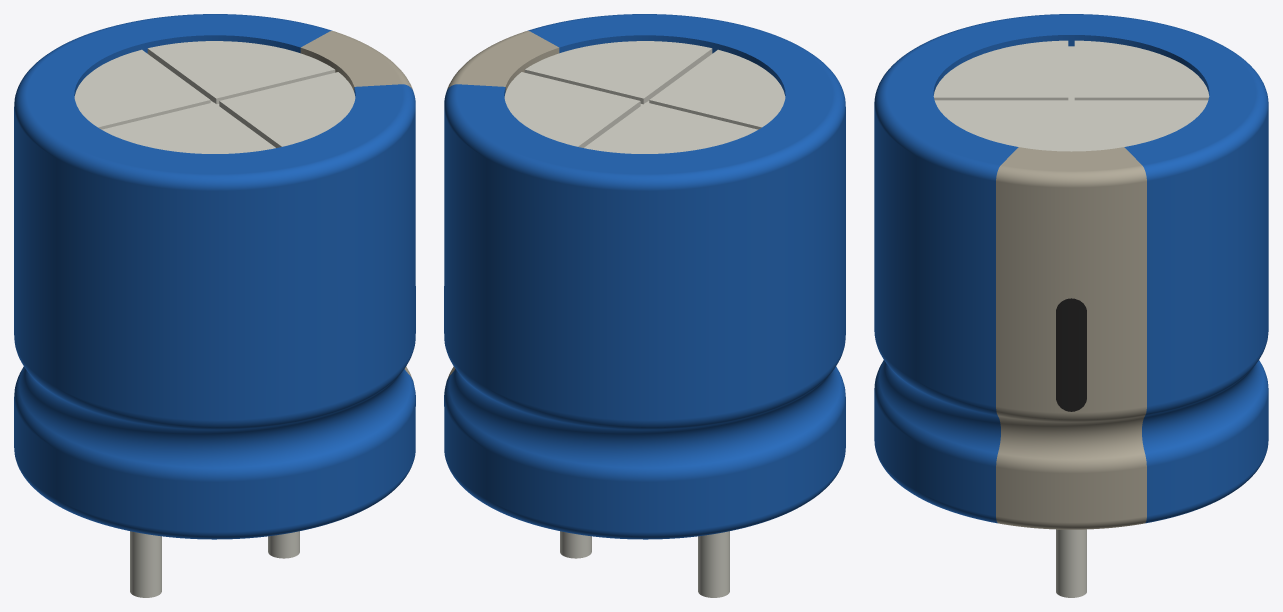
File: cp_radial_d6_3mm_p2_50mm.glb
3 views of the same model, side by side, from view 1: azimuth 30°, elevation 25°; view 2: azimuth 150°, elevation 25°; view 3: azimuth 270°, elevation 25° (orthographic).
Visible parts, largest first — view 1: cap_elec_d6, pin_1, pin_2; view 2: cap_elec_d6, pin_1, pin_2; view 3: cap_elec_d6, pin_2.
Part boxes in pixels (box(x1,y1,x2,y2)): cap_elec_d6: box(14, 14, 415, 539); pin_1: box(130, 531, 161, 597); pin_2: box(268, 531, 299, 558); cap_elec_d6: box(444, 14, 845, 539); pin_1: box(698, 531, 729, 597); pin_2: box(560, 531, 591, 558); cap_elec_d6: box(874, 14, 1268, 529); pin_2: box(1056, 529, 1086, 597).
Bounding box in the file's own units: 0.0063 × 0.0083 × 0.0063.
